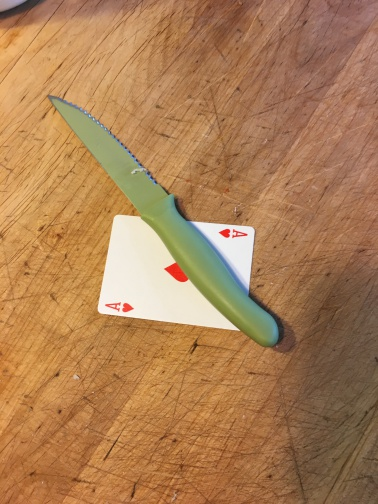ace: (96, 212, 256, 334)
